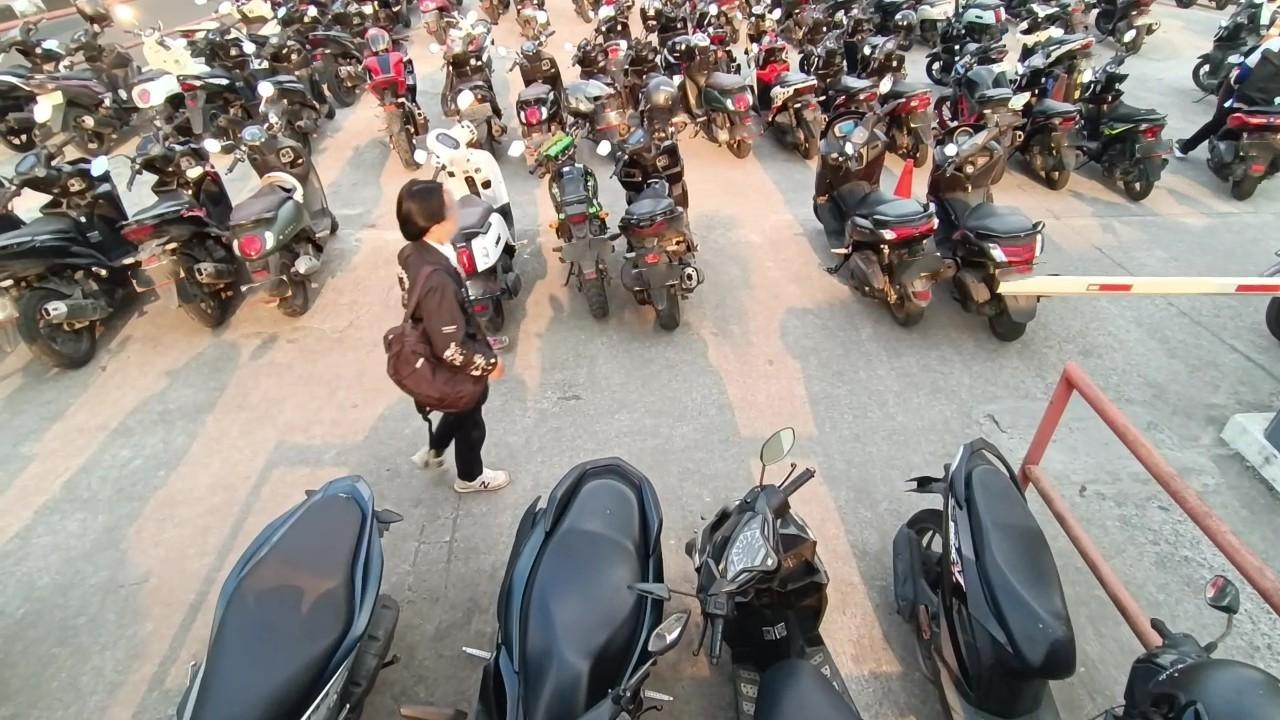motorcycle: (884, 444, 1280, 720), (144, 471, 407, 720), (670, 424, 886, 720), (451, 453, 679, 720), (1, 103, 139, 370), (199, 80, 342, 327), (407, 81, 534, 347), (96, 114, 249, 330), (810, 81, 942, 328), (601, 76, 714, 337), (510, 83, 619, 333), (929, 86, 1037, 337), (1064, 21, 1181, 213), (18, 0, 141, 146), (106, 3, 211, 154), (673, 4, 760, 166), (341, 24, 429, 178), (857, 9, 940, 171), (239, 7, 336, 142), (1004, 30, 1079, 194), (749, 9, 829, 159), (560, 7, 635, 161), (430, 10, 506, 160), (1207, 51, 1280, 202), (496, 11, 566, 163)
